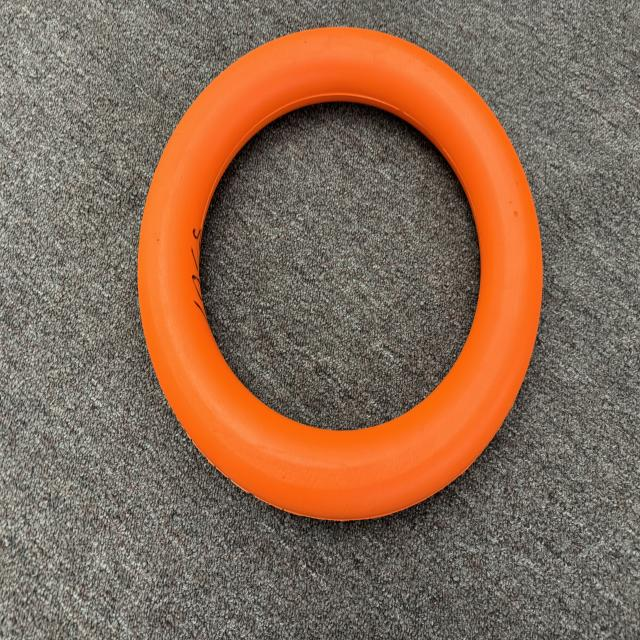note: (129, 16, 552, 538)
